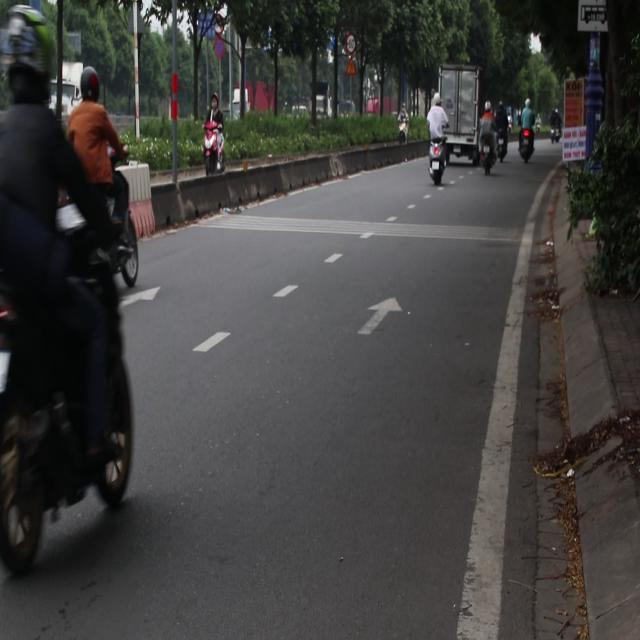motorbike: (0, 208, 140, 593), (59, 162, 158, 285), (194, 107, 225, 186), (428, 132, 452, 191), (388, 100, 411, 145), (518, 115, 537, 163), (479, 136, 492, 178), (551, 108, 566, 142), (496, 128, 508, 165)
truck: (436, 67, 490, 167)
